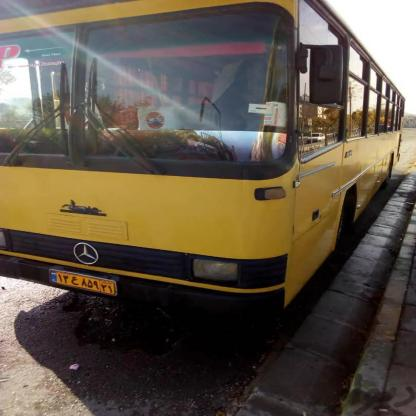Bus: (0, 0, 416, 326)
